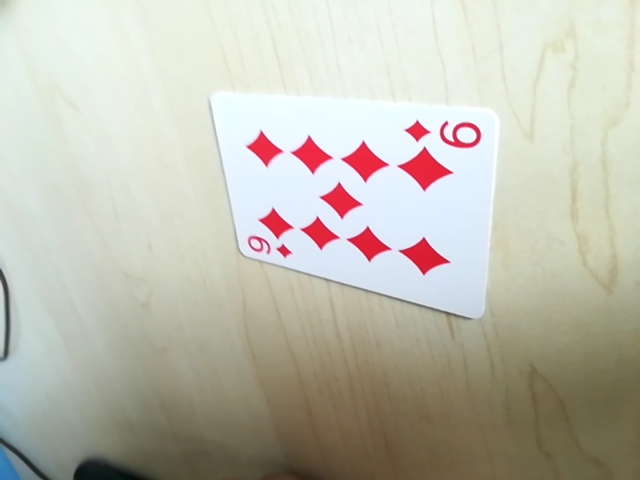fk 9: (402, 113, 485, 152), (241, 232, 296, 265)
